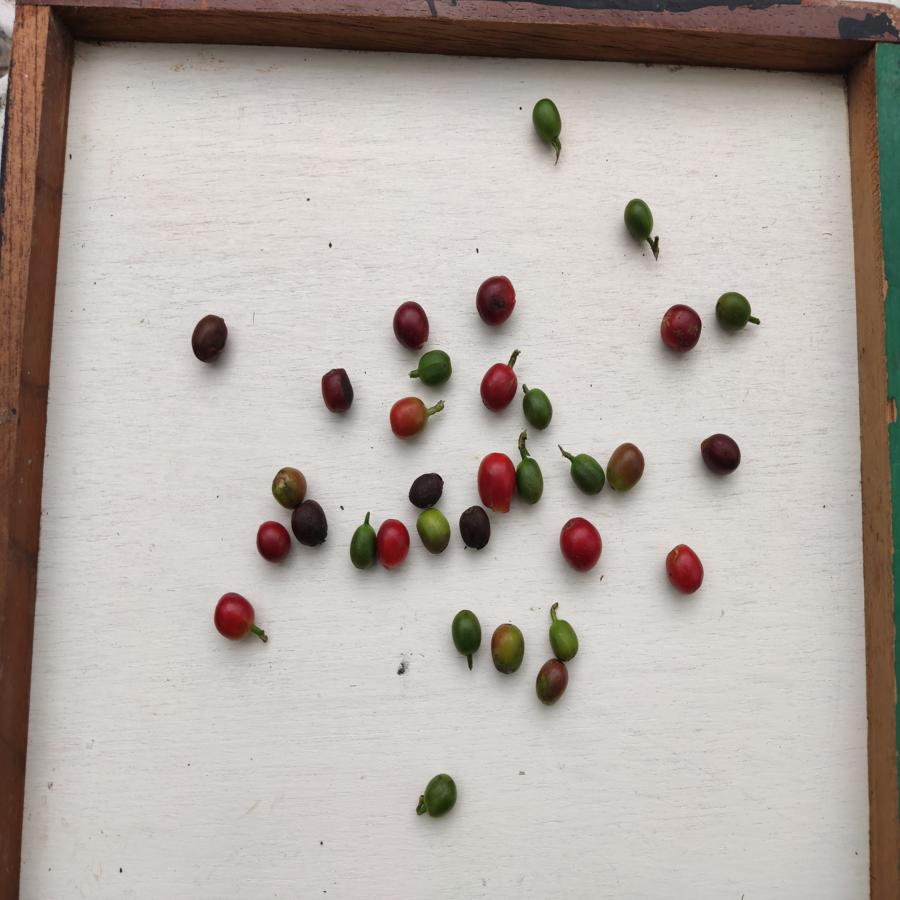Inmaduro: (525, 93, 572, 154), (420, 767, 459, 822), (713, 288, 753, 337), (416, 509, 455, 554), (569, 453, 607, 498), (449, 606, 481, 657), (547, 618, 583, 663), (621, 196, 656, 242), (349, 520, 377, 575), (521, 385, 555, 430), (515, 459, 548, 505), (419, 349, 453, 385)
Maduro: (559, 515, 603, 573), (476, 450, 515, 513), (663, 542, 706, 595), (214, 590, 257, 642), (479, 361, 519, 413), (388, 395, 429, 441), (377, 517, 411, 571), (255, 521, 292, 566)
Pinton: (489, 621, 528, 676), (605, 441, 647, 490), (536, 656, 569, 708), (271, 465, 308, 507)
Sobremaduro: (475, 275, 521, 328), (187, 312, 231, 367), (659, 303, 703, 356), (697, 431, 745, 479), (391, 299, 433, 351), (292, 499, 331, 550), (319, 367, 358, 417), (409, 471, 449, 511), (459, 506, 491, 550)
